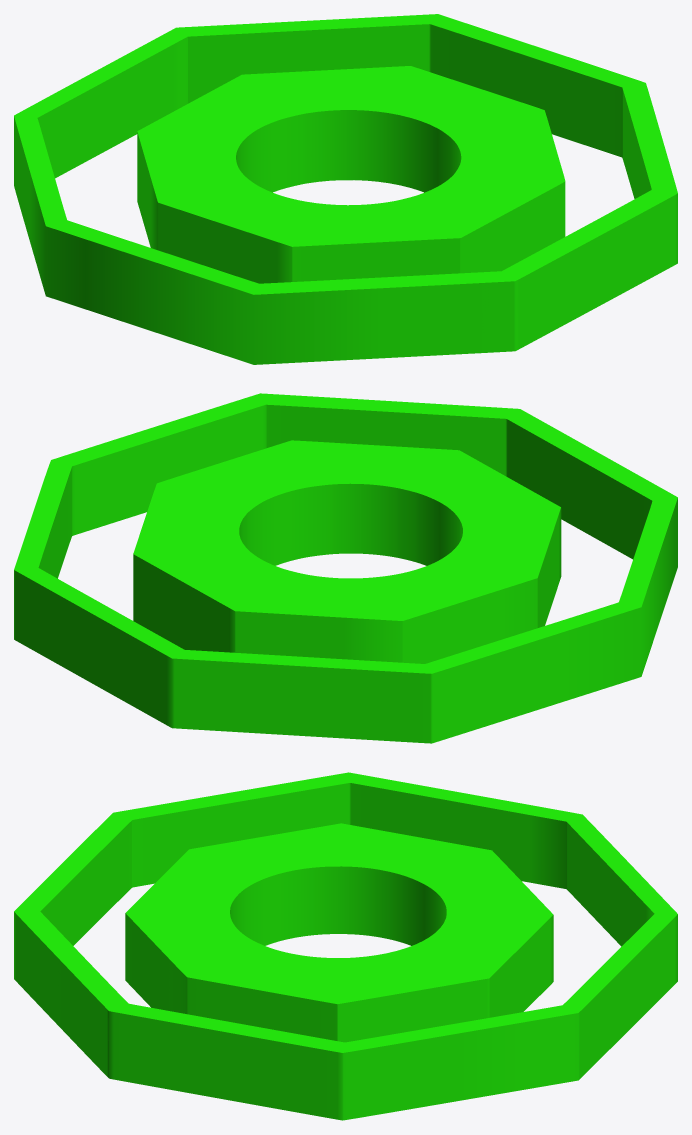
Rendered from powerugreen1tiro (1).fbx.
3 views of the same model, one above another, from view 1: azimuth 30°, elevation 25°; view 2: azimuth 150°, elevation 25°; view 3: azimuth 270°, elevation 25° (orthographic). The views are drawn at different scales.
Visible parts, largest first — view 1: path1850; view 2: path1850; view 3: path1850.
Part boxes in pixels (<box>): path1850: <box>14,14,677,364</box>; path1850: <box>14,393,677,743</box>; path1850: <box>14,772,677,1120</box>.
Bounding box in the file's own units: 774 × 86.93 × 775.
